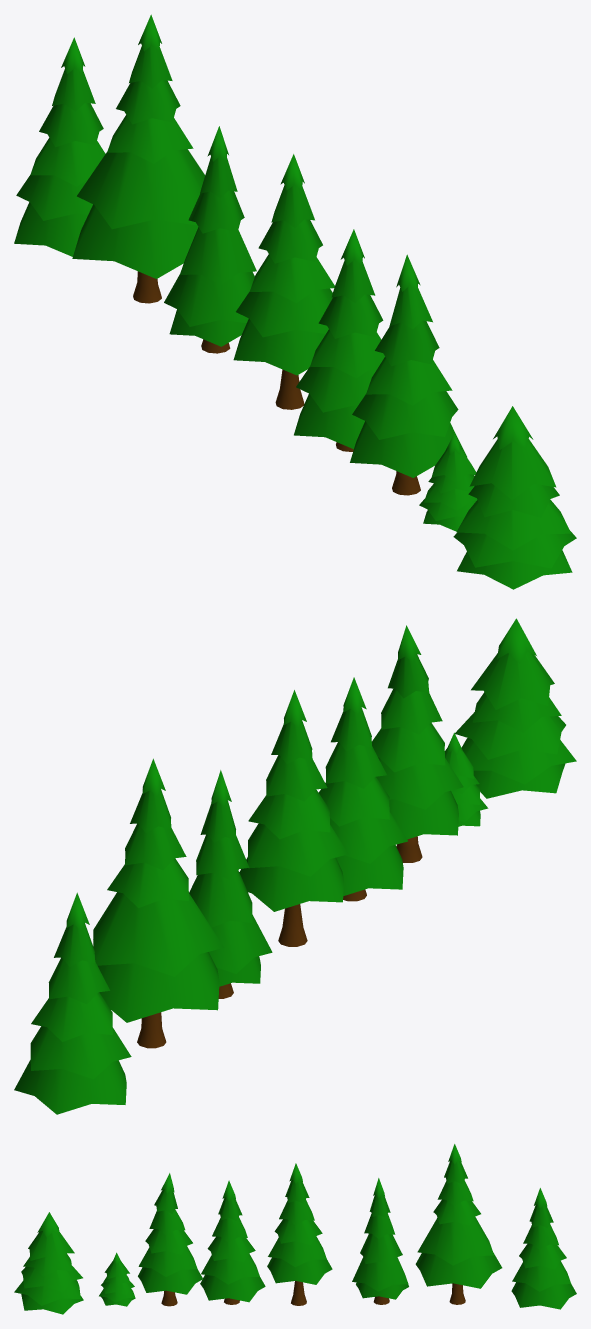
Rendered from treespack.fbx.
3 views of the same model, one above another, from view 1: azimuth 30°, elevation 25°; view 2: azimuth 150°, elevation 25°; view 3: azimuth 270°, elevation 25° (orthographic). The views are drawn at different scales.
Visible parts, largest first — view 1: Цилиндр.006, Цилиндр.001, Цилиндр.005, Цилиндр.002, Цилиндр.003, Цилиндр.009, Цилиндр.007, Цилиндр.004; view 2: Цилиндр.006, Цилиндр.002, Цилиндр.007, Цилиндр.005, Цилиндр.001, Цилиндр.009, Цилиндр.003, Цилиндр.004; view 3: Цилиндр.006, Цилиндр.002, Цилиндр.001, Цилиндр.009, Цилиндр.007, Цилиндр.005, Цилиндр.003, Цилиндр.004.
Boxes of the visible parts, x1,y1,x2,y2 form: Цилиндр.006: [72, 14, 205, 303]; Цилиндр.001: [350, 254, 466, 495]; Цилиндр.005: [453, 406, 576, 589]; Цилиндр.002: [233, 154, 334, 409]; Цилиндр.003: [164, 126, 256, 353]; Цилиндр.009: [294, 229, 384, 451]; Цилиндр.007: [14, 37, 105, 256]; Цилиндр.004: [419, 433, 477, 531]; Цилиндр.006: [93, 758, 223, 1048]; Цилиндр.002: [239, 690, 348, 946]; Цилиндр.007: [14, 892, 131, 1114]; Цилиндр.005: [455, 618, 576, 798]; Цилиндр.001: [372, 625, 463, 862]; Цилиндр.009: [318, 677, 407, 901]; Цилиндр.003: [189, 770, 272, 998]; Цилиндр.004: [445, 732, 488, 826]; Цилиндр.006: [415, 1144, 502, 1304]; Цилиндр.002: [267, 1163, 332, 1305]; Цилиндр.001: [138, 1173, 202, 1306]; Цилиндр.009: [200, 1180, 265, 1304]; Цилиндр.007: [511, 1188, 576, 1309]; Цилиндр.005: [14, 1212, 83, 1314]; Цилиндр.003: [352, 1178, 408, 1304]; Цилиндр.004: [99, 1252, 135, 1306].
Size of the model in its own units: 630 by 1288 by 4110.
